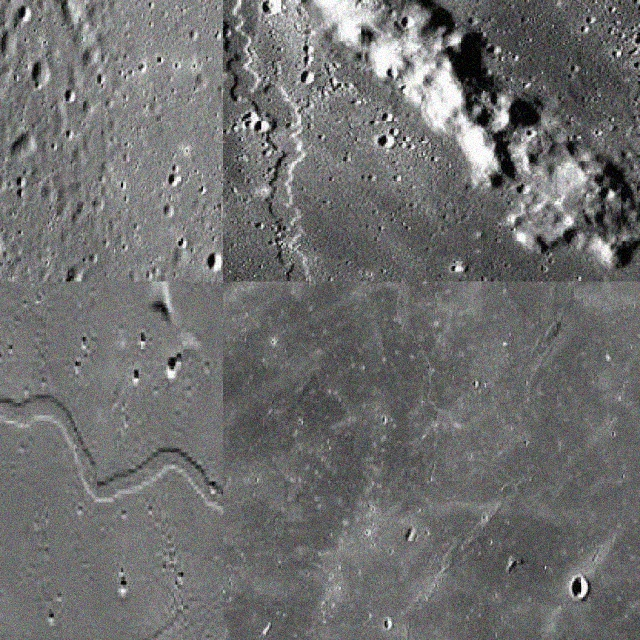crater: (223, 282, 612, 529), (223, 0, 486, 280), (0, 394, 222, 638)
